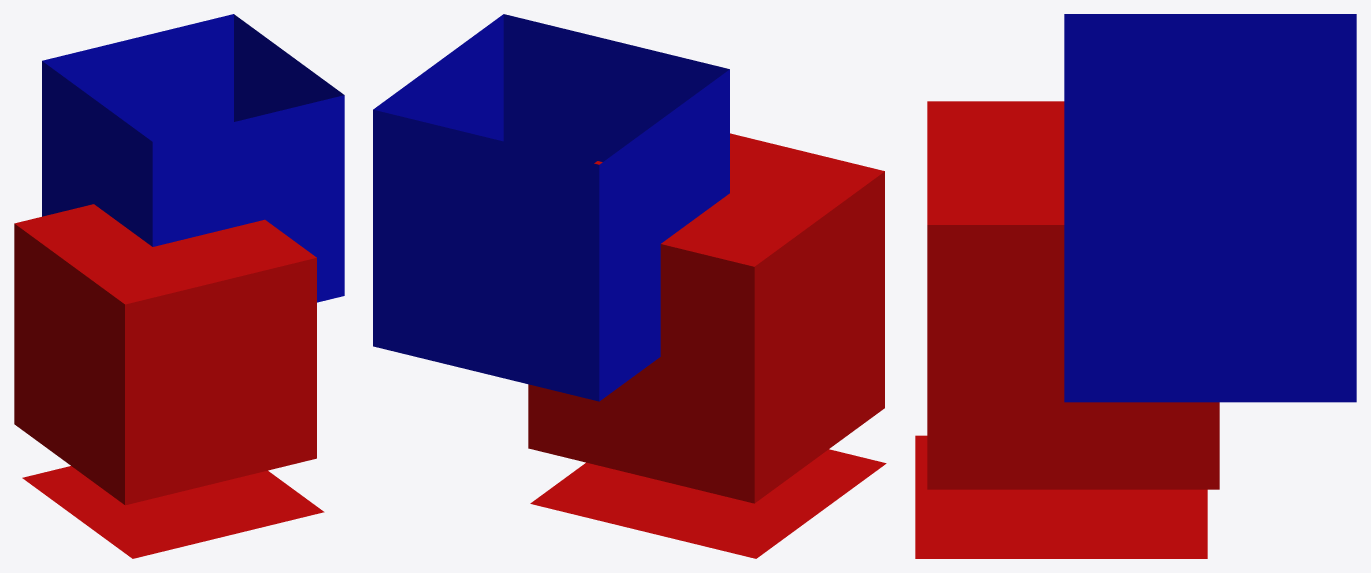
File: subtree1.obj
3 views of the same model, side by side, from view 1: azimuth 30°, elevation 25°; view 2: azimuth 150°, elevation 25°; view 3: azimuth 270°, elevation 25° (orthographic). The views are drawn at different scales.
Visible parts, largest first — view 1: bunnyA.001, bunnyB.001; view 2: bunnyB.001, bunnyA.001; view 3: bunnyB.001, bunnyA.001.
Boxes of the visible parts, x1,y1,x2,y2 form: bunnyA.001: (14,204,324,558); bunnyB.001: (42,14,344,302); bunnyB.001: (373,14,729,401); bunnyA.001: (528,133,886,558); bunnyB.001: (1064,14,1356,402); bunnyA.001: (915,101,1219,558).
Bounding box in the file's own units: 2.83 × 3.56 × 3.02.
